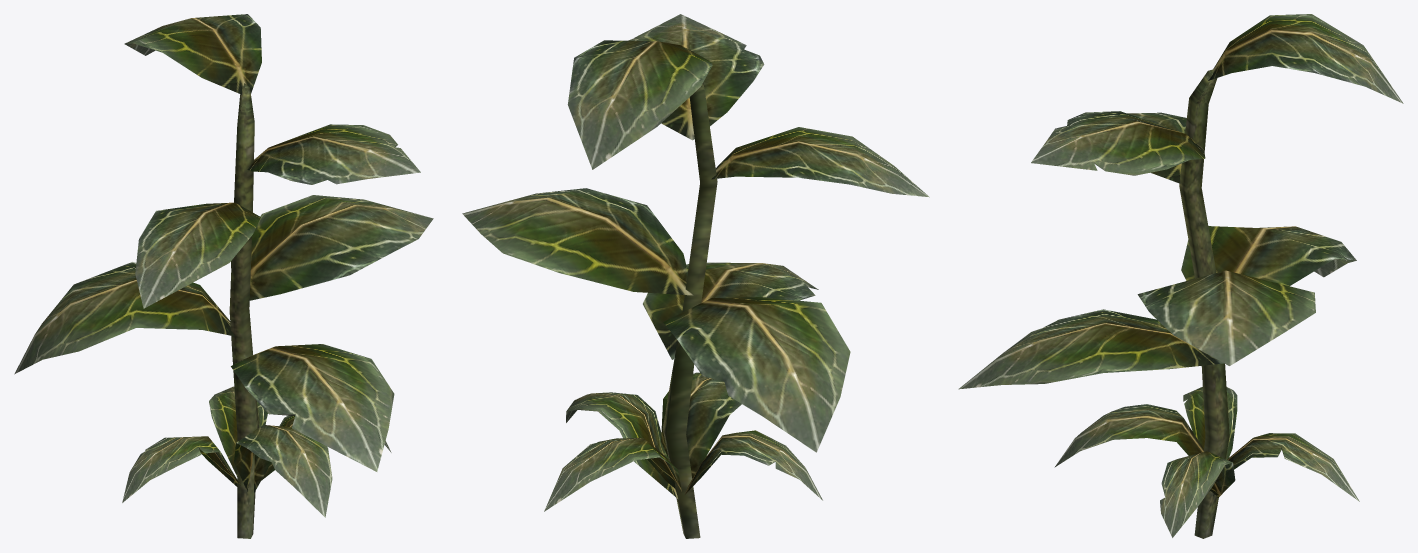
File: SM_Plains_Fern02.FBX
3 views of the same model, side by side, from view 1: azimuth 30°, elevation 25°; view 2: azimuth 150°, elevation 25°; view 3: azimuth 270°, elevation 25° (orthographic). The views are drawn at different scales.
Parts seen in each view (by area): view 1: SM_Plains_Fern02; view 2: SM_Plains_Fern02; view 3: SM_Plains_Fern02.
Boxes of the visible parts, x1,y1,x2,y2 form: SM_Plains_Fern02: (14,14,433,538); SM_Plains_Fern02: (462,14,929,538); SM_Plains_Fern02: (958,14,1403,538).
Size of the model in its own units: 67.05 by 82.71 by 66.17.
1 material, 1 textured.
